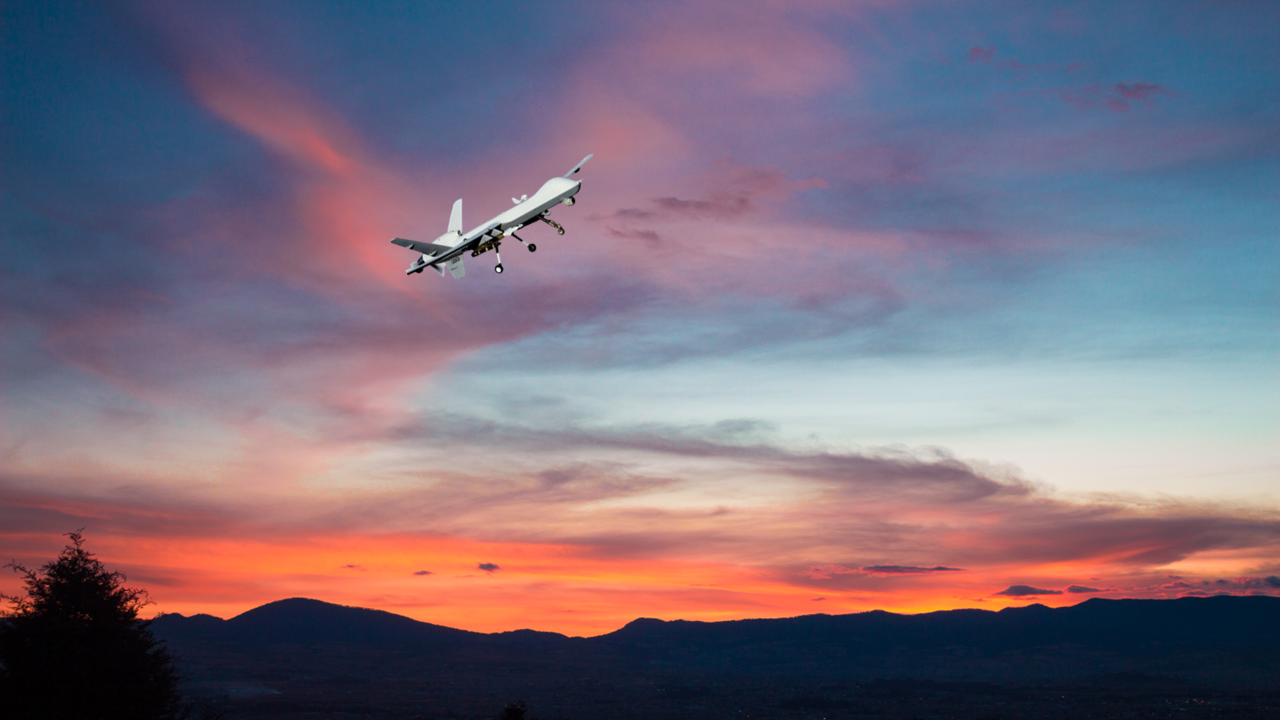military drone: (389, 153, 593, 279)
